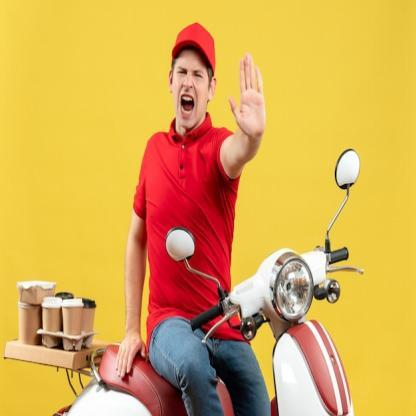stop: (226, 51, 268, 137)
